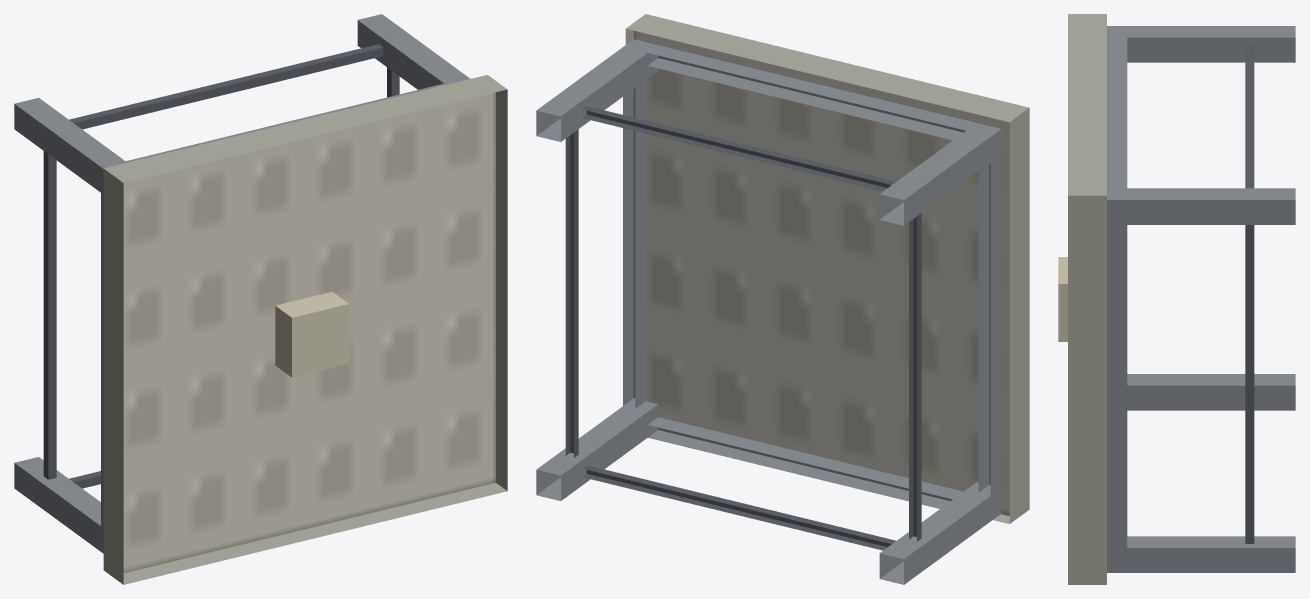
File: pot_flood_full.obj
3 views of the same model, side by side, from view 1: azimuth 30°, elevation 25°; view 2: azimuth 150°, elevation 25°; view 3: azimuth 270°, elevation 25° (orthographic). The views are drawn at different scales.
Size of the model in its own units: 0.94 by 0.94 by 0.519.
Materials: 1 (1 with a texture image).
